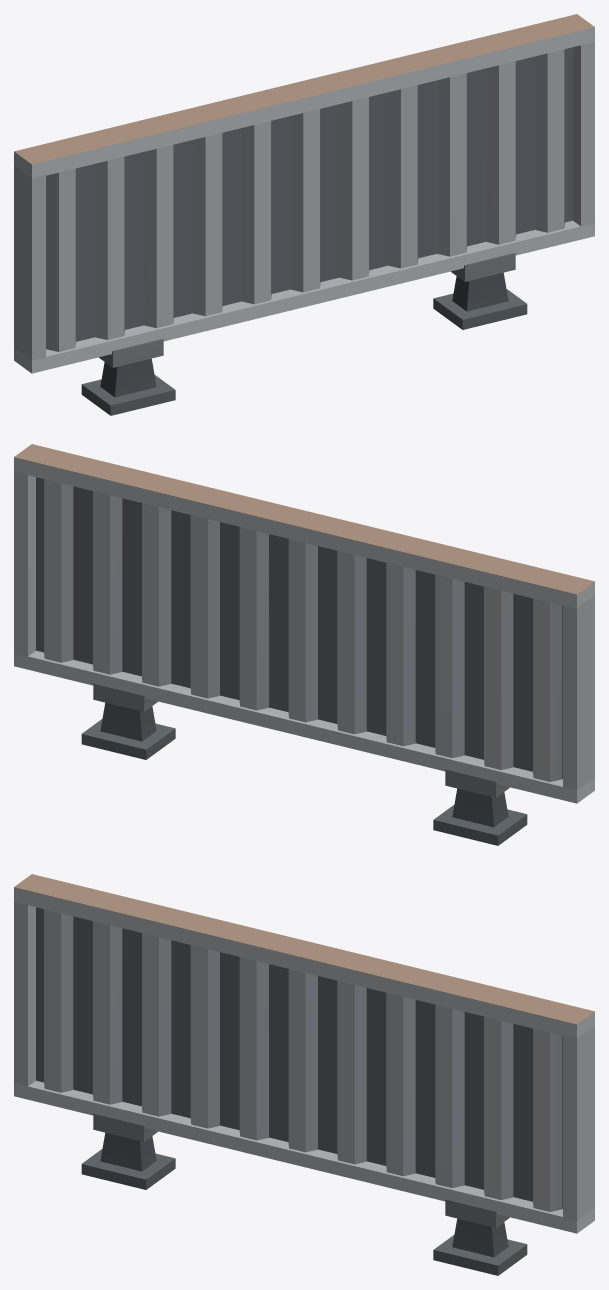
File: radiator.lod1.glb
3 renders of one model, top to bottom at view 1: azimuth 30°, elevation 25°; view 2: azimuth 150°, elevation 25°; view 3: azimuth 330°, elevation 25°, orthographic.
Size of the model in its own units: 4 by 1.8 by 0.36.
